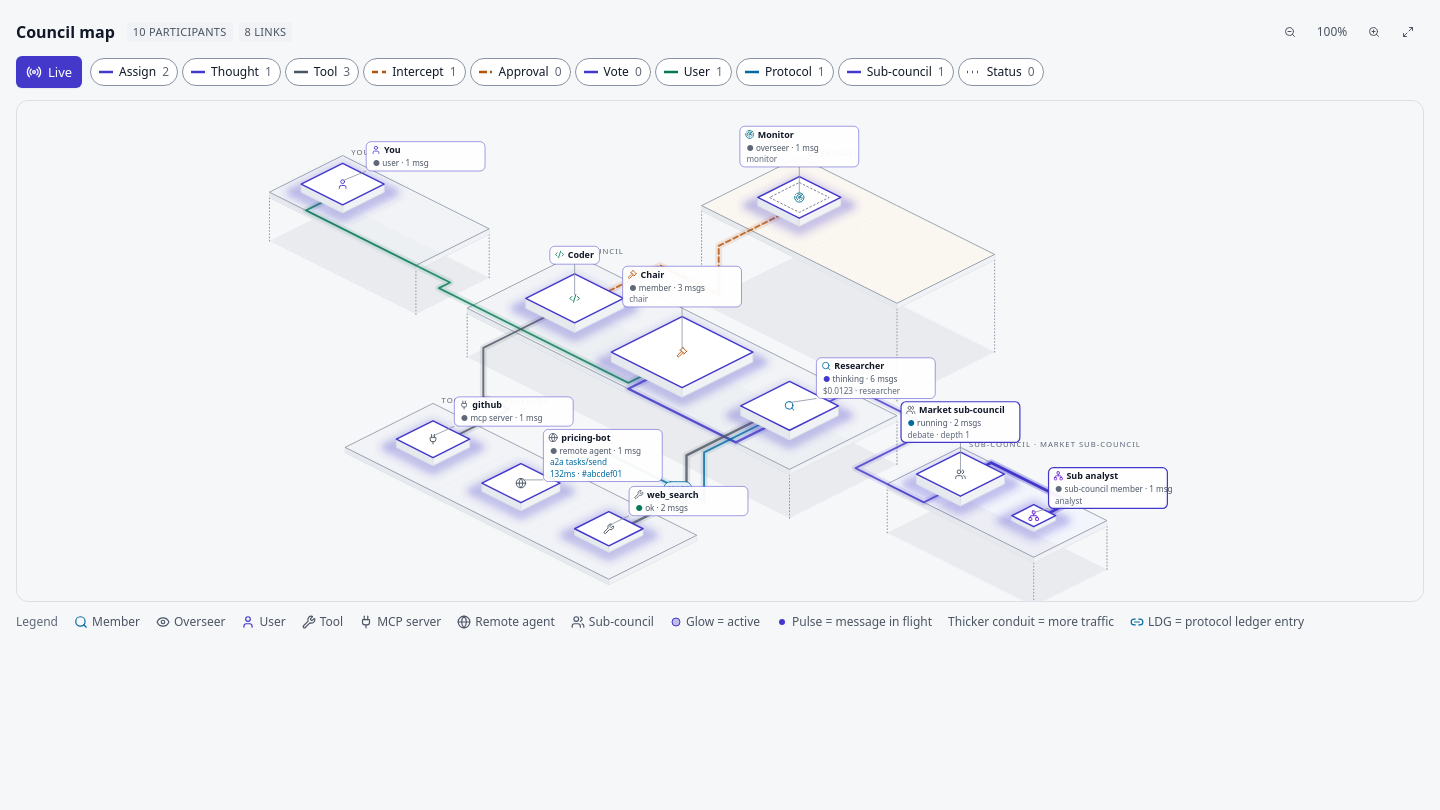
Scenario: CouncilMap › uses the shared zoom controls in the fixed order and fits back
The width and height of the screenshot is (1440, 810).
Expected: the heading "Council map" is shown, [16, 19, 115, 45]
Expected: the text with test id "zoom-level" reads "100%", [1317, 23, 1347, 40]
Step 1. Click the button named "Zoom in" → (1374, 32), box [1358, 16, 1390, 48]
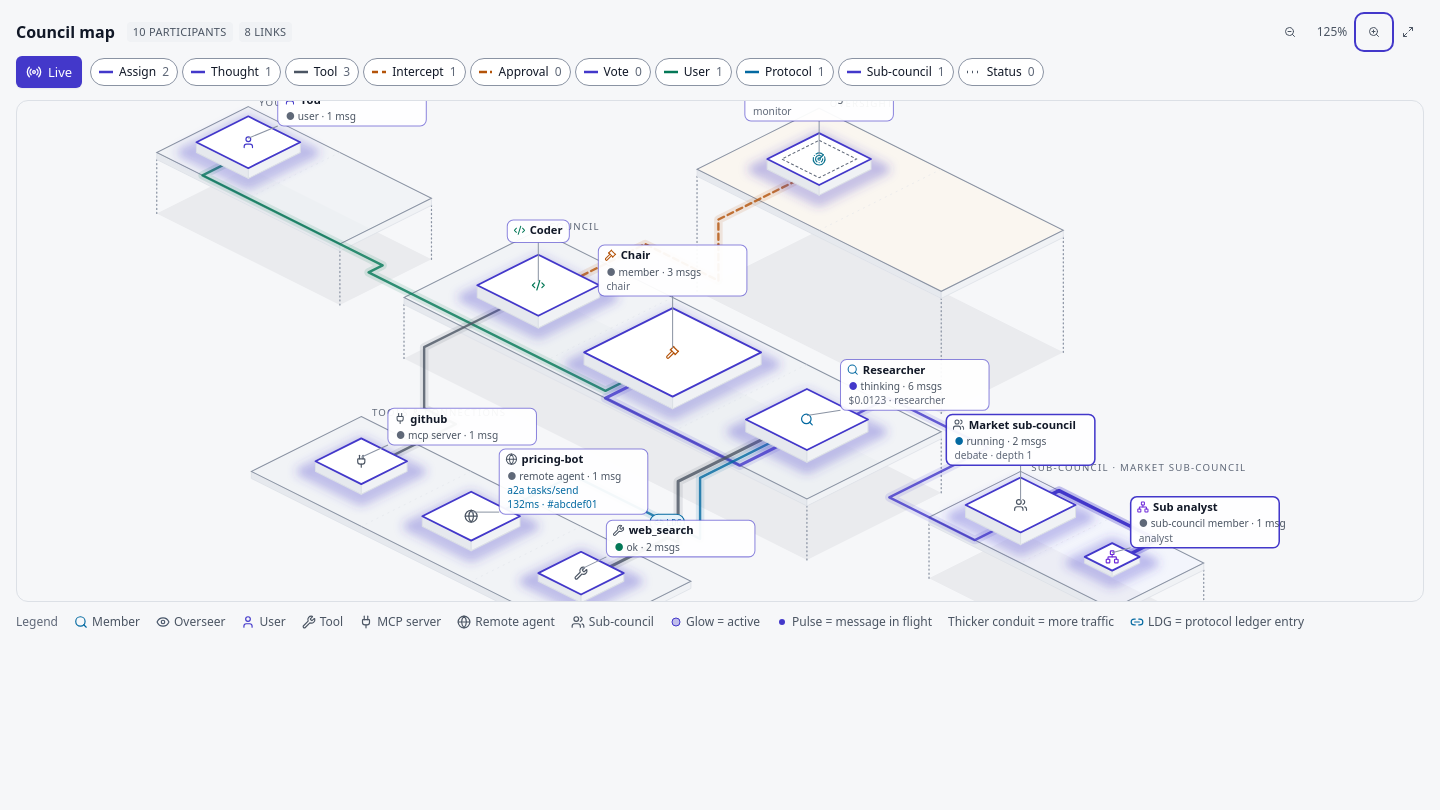
Expected: the text with test id "zoom-level" reads "125%", [1317, 23, 1347, 40]
Step 2. Click the button named "Fit to view" → (1408, 32), box [1392, 16, 1424, 48]
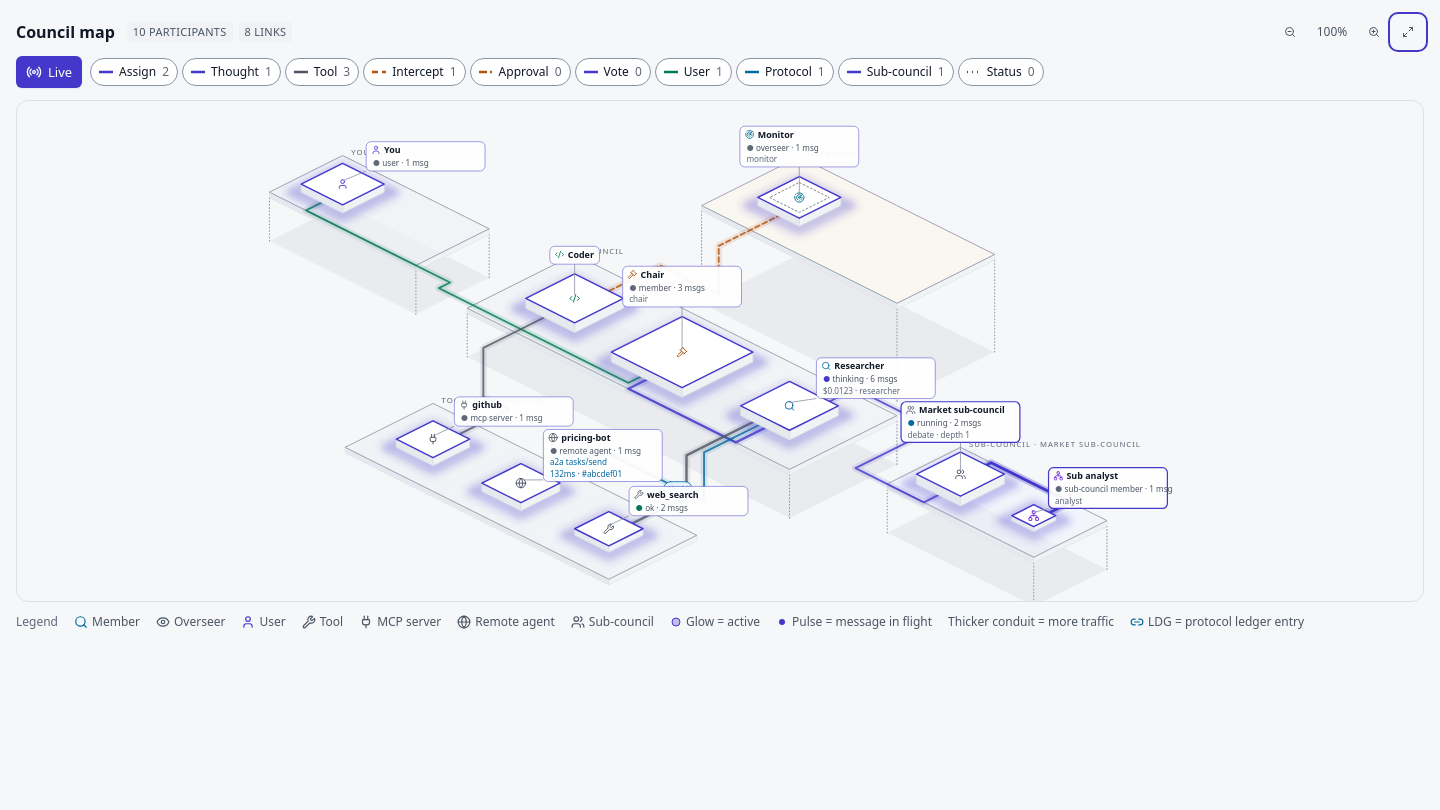
Expected: the text with test id "zoom-level" reads "100%", [1317, 23, 1347, 40]
